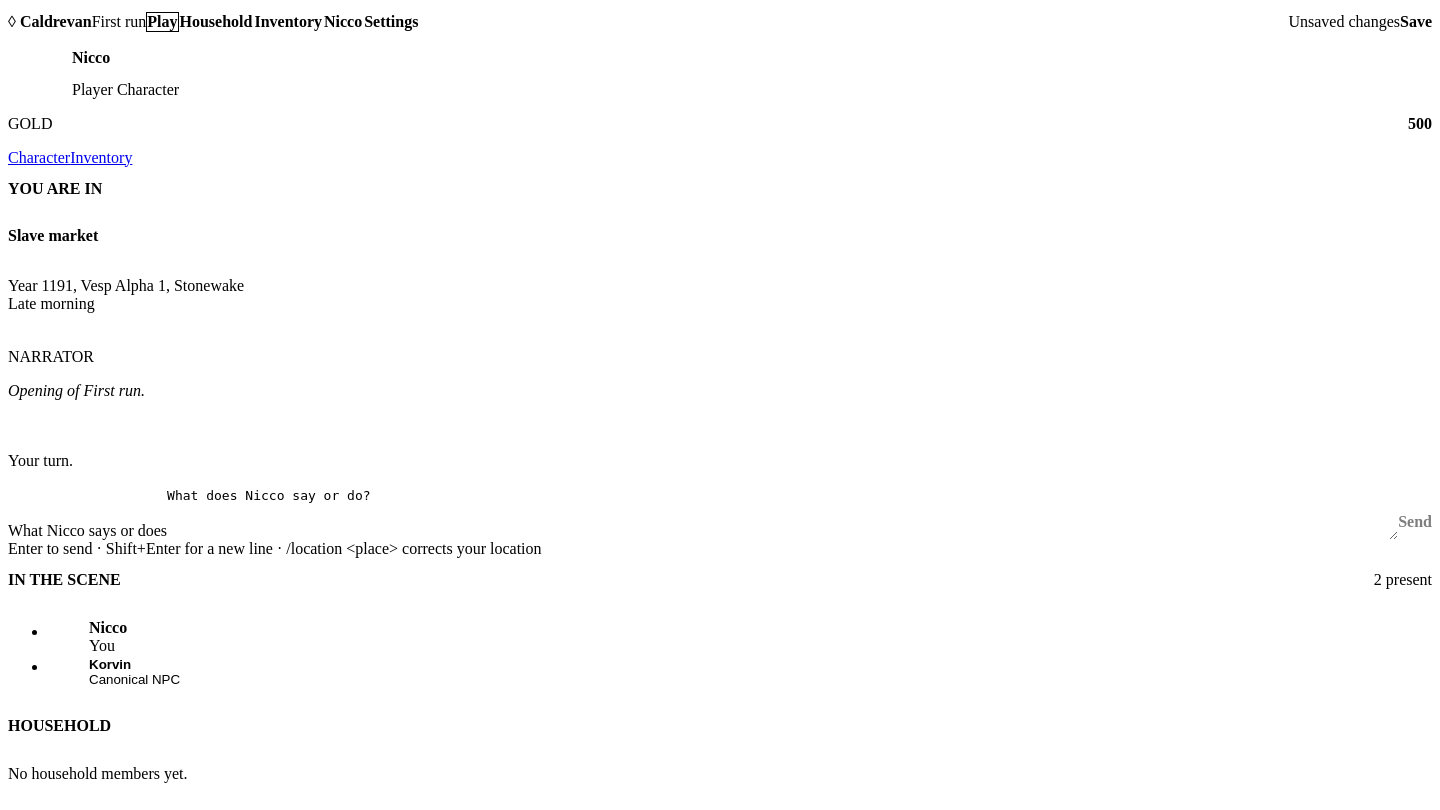
Save control › a failed save says Save failed, explains that the session is intact, and the Save button stays available for a retry
Click the button "Save" at (1416, 22), box [1400,8,1432,36]
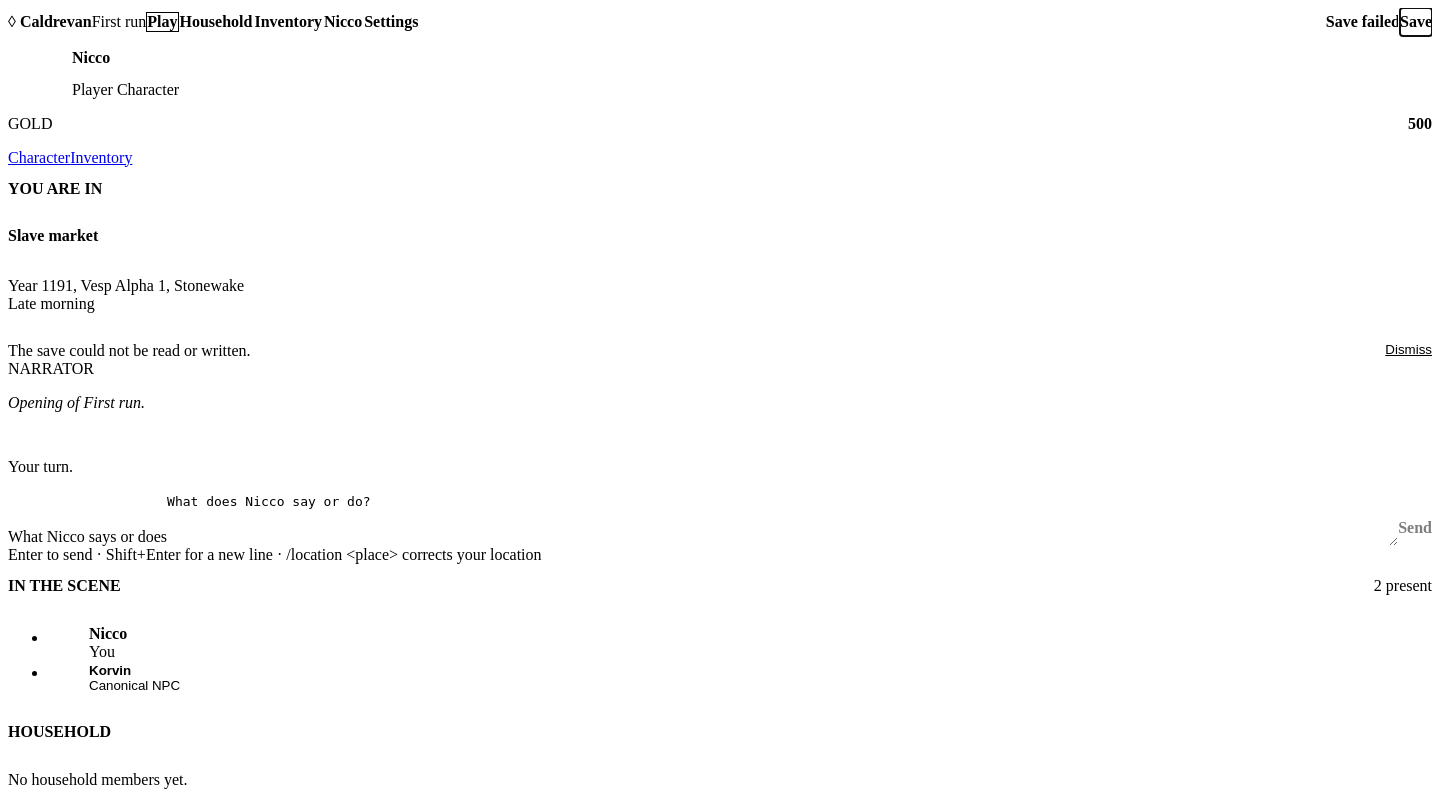
Result: the text "Save failed" is shown at [1326,13,1400,31]
Result: the text "The save could not be read or written." is shown at [8,342,251,360]
